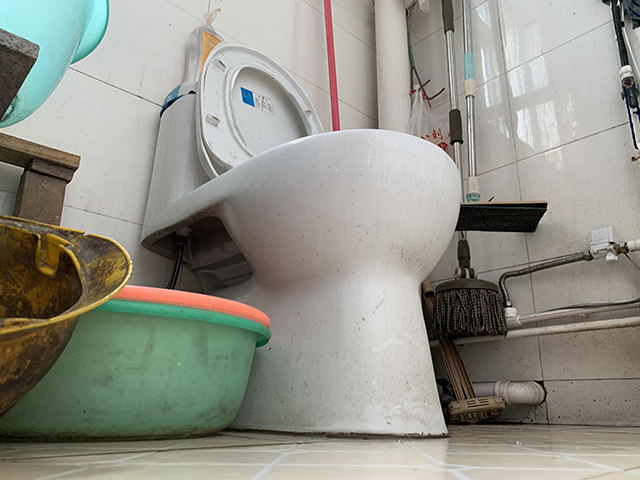closestool: (137, 40, 463, 442)
